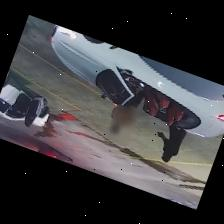person: (109, 90, 143, 133), (157, 124, 185, 161)
